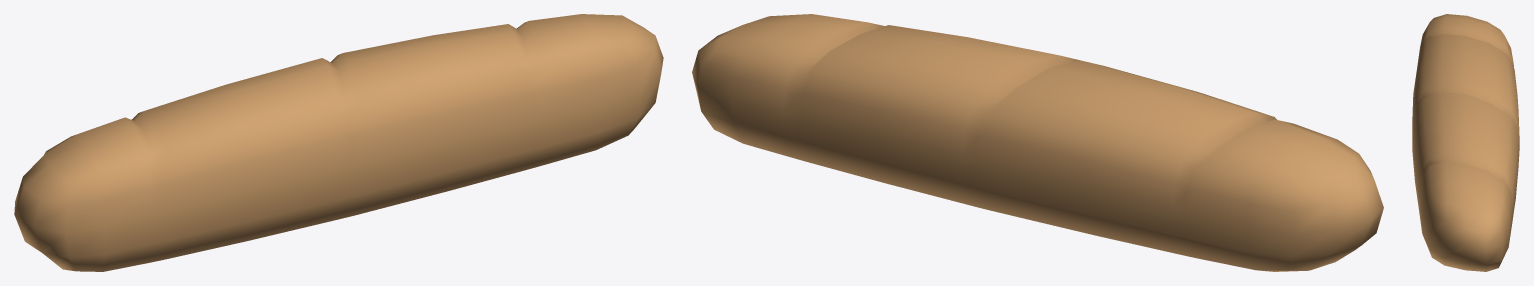
Rendered from bread.fbx.
The picture shows the model from 3 angles, left to right: view 1: azimuth 30°, elevation 25°; view 2: azimuth 150°, elevation 25°; view 3: azimuth 270°, elevation 25°; orthographic projection. The views are drawn at different scales.
Parts seen in each view (by area): view 1: bread; view 2: bread; view 3: bread.
Part boxes in pixels (bbox=[...]): bread: bbox=[14, 14, 663, 271]; bread: bbox=[692, 14, 1383, 271]; bread: bbox=[1412, 14, 1519, 271].
Size of the model in its own units: 895 by 177 by 189.
1 material, 1 textured.
